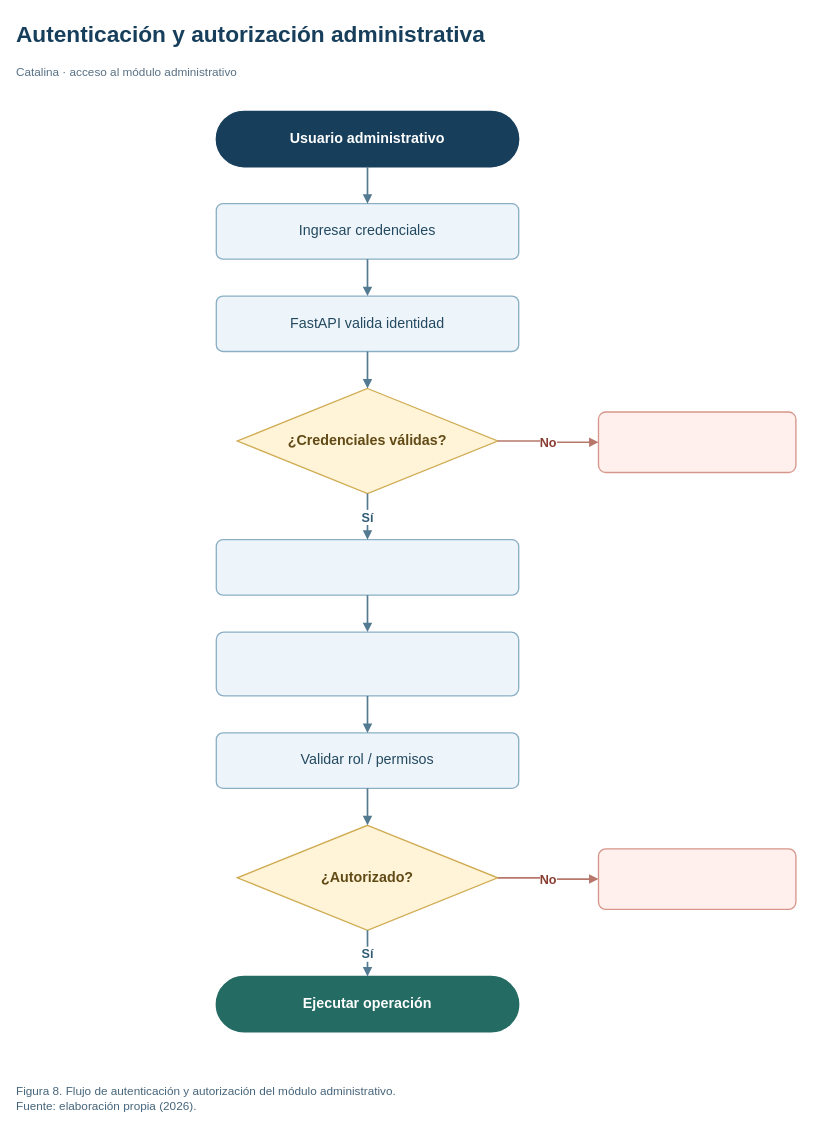
Some shapes in this 818 by 1137 pixel diagram are drawn without their labels. The box of each missing label's shape, as (x1, y1, x2, y2) in pixels:
401 No autenticado: (597, 411, 796, 473)
403 Sin autorización: (597, 848, 796, 910)
Generar sesión / token: (215, 539, 519, 595)
Solicitar operación administrativa: (215, 631, 519, 696)
